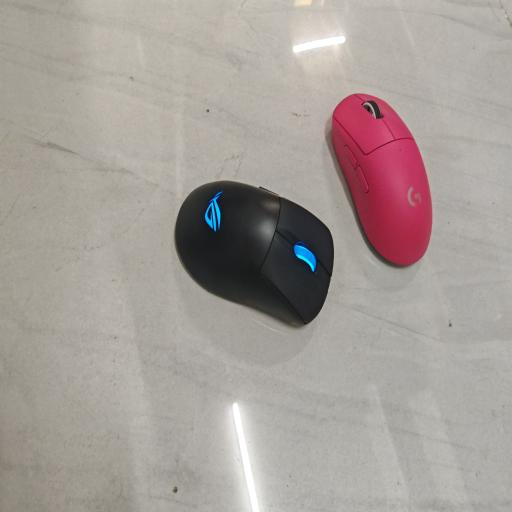mouse: (175, 181, 333, 324), (332, 93, 432, 265)
